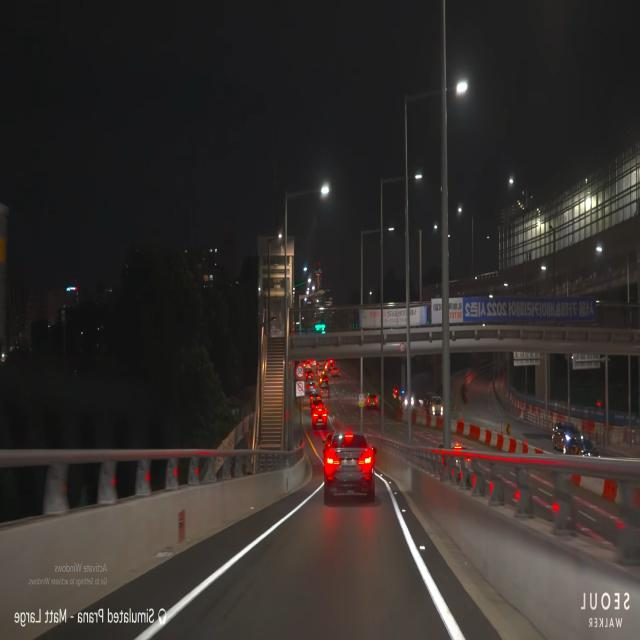headlights: (562, 426, 587, 444), (429, 403, 444, 418)
